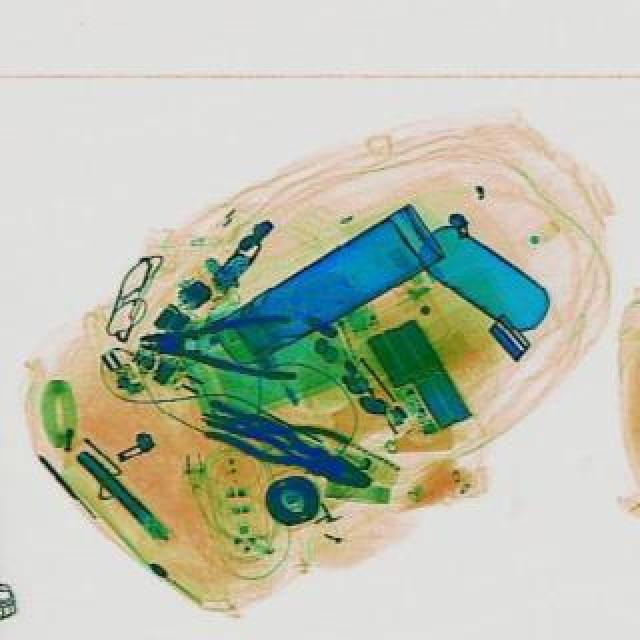wrench: (194, 390, 380, 498), (134, 306, 298, 378)
